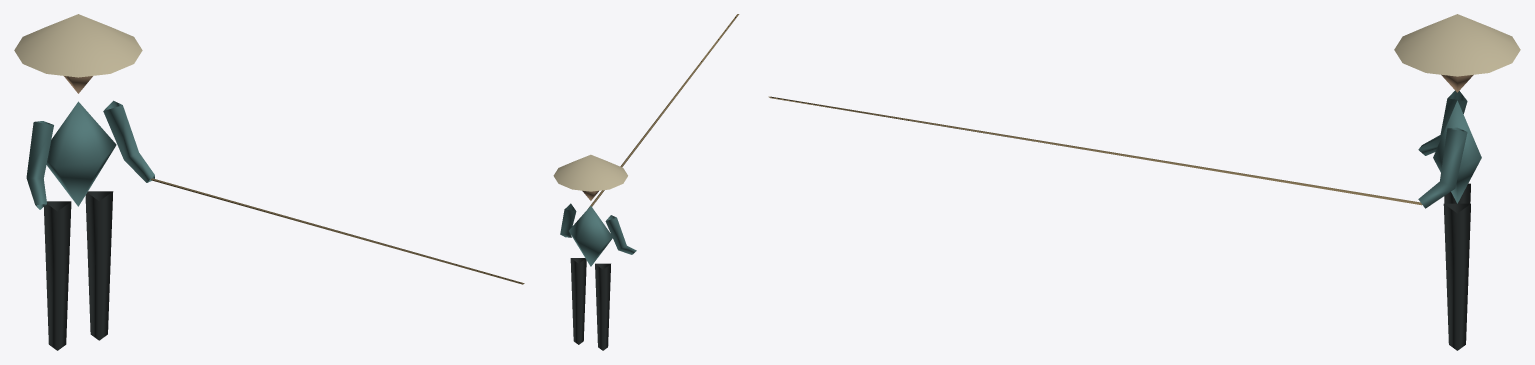
Rendered from angler-1.glb.
3 renders of one model, left to right at view 1: azimuth 30°, elevation 25°; view 2: azimuth 150°, elevation 25°; view 3: azimuth 270°, elevation 25°, orthographic. The views are drawn at different scales.
Parts seen in each view (by area): view 1: angler; view 2: angler; view 3: angler.
Boxes of the visible parts, bbox=[...] form: angler: bbox=[14, 14, 524, 350]; angler: bbox=[553, 14, 739, 350]; angler: bbox=[768, 14, 1520, 350].
Bounding box in the file's own units: 0.913 × 1.8 × 3.8.
